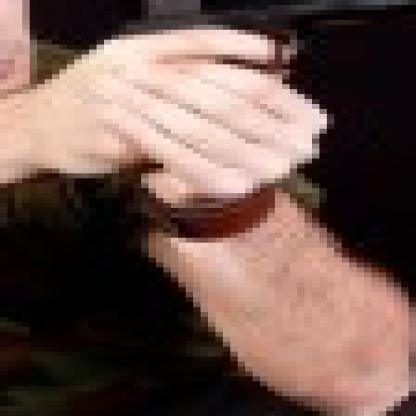gun: (96, 0, 408, 208)
